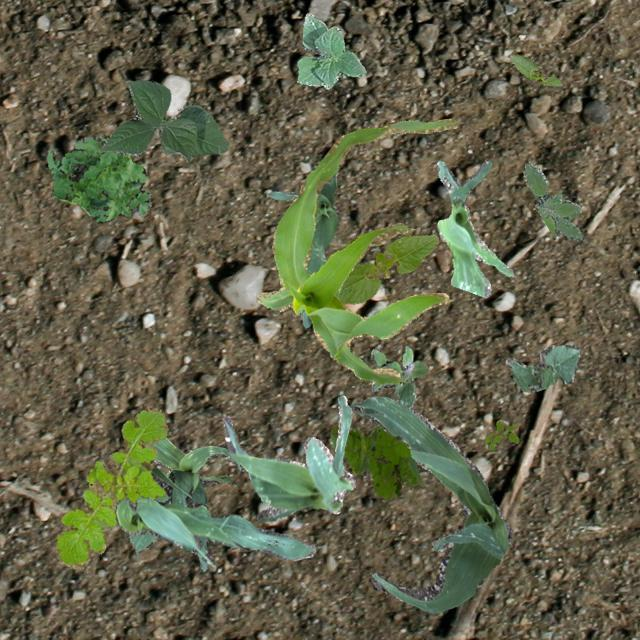crop: (256, 118, 457, 382), (350, 396, 512, 612), (113, 466, 314, 564), (220, 394, 354, 520), (128, 436, 244, 570), (266, 172, 338, 326), (436, 160, 512, 296), (100, 80, 227, 160), (338, 234, 438, 304), (296, 12, 366, 88), (504, 344, 580, 392), (508, 52, 560, 86)
weed: (52, 408, 166, 568), (46, 134, 150, 222), (330, 426, 420, 498), (524, 162, 582, 240), (370, 347, 428, 408), (483, 419, 518, 448)
